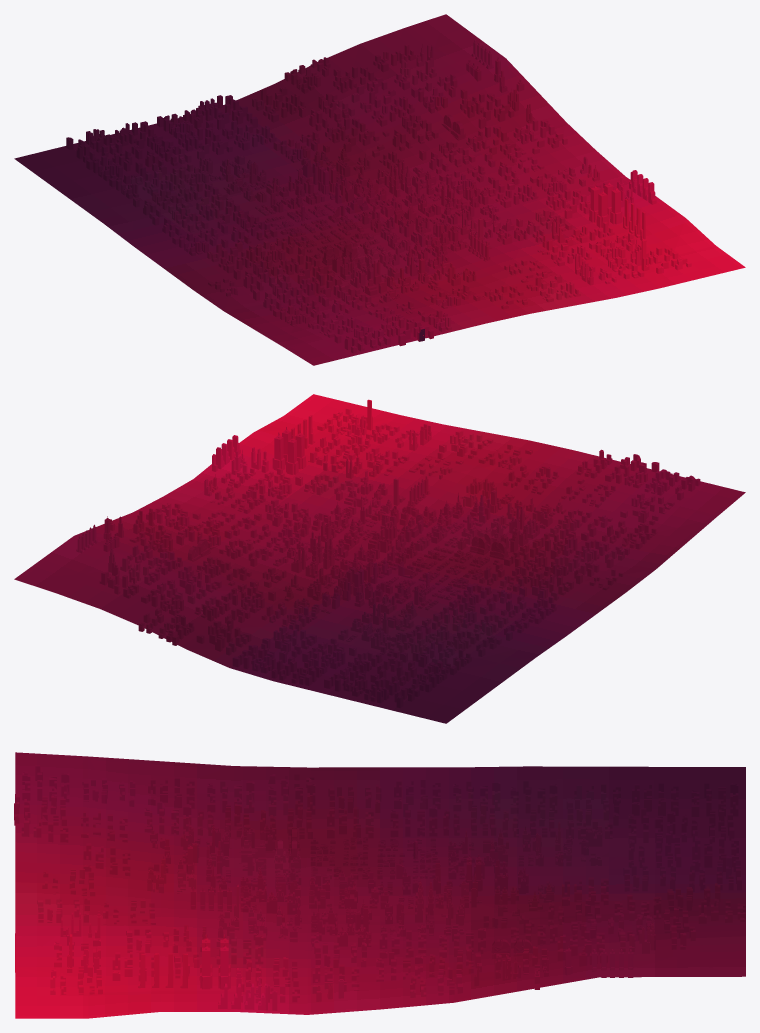
The model's file is skyline.glb.
The picture shows the model from 3 angles, top to bottom: view 1: azimuth 30°, elevation 25°; view 2: azimuth 150°, elevation 25°; view 3: azimuth 270°, elevation 25°; orthographic projection. The views are drawn at different scales.
Visible parts, largest first — view 1: skfb_offset; view 2: skfb_offset; view 3: skfb_offset.
Part boxes in pixels (left/top/right/bottom): skfb_offset: left=14, top=14, right=745, bottom=365; skfb_offset: left=14, top=394, right=745, bottom=723; skfb_offset: left=14, top=752, right=745, bottom=1018.
Size of the model in its own units: 350486 by 49851 by 420689.
Materials: 1 (1 with a texture image).
